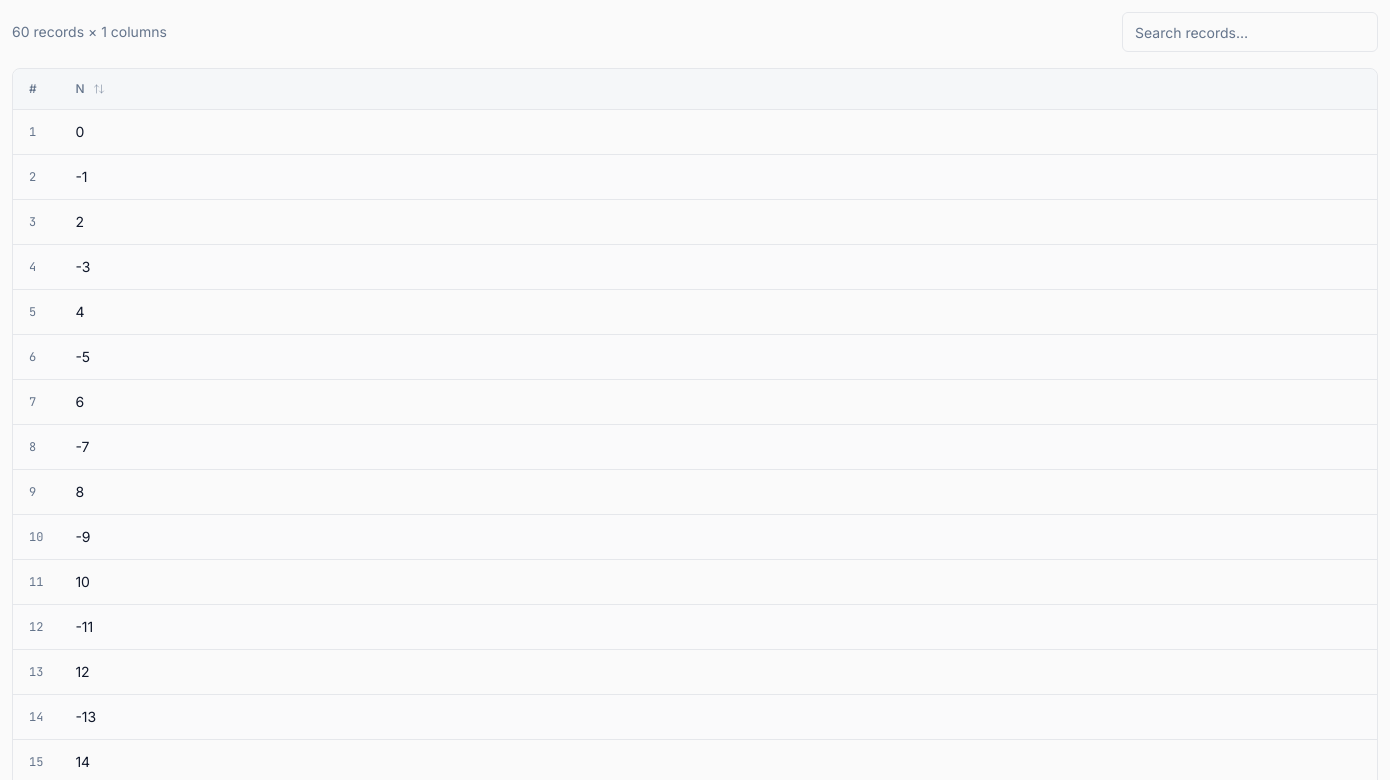
it: DatasetTable › sorts negatives and decimals numerically using the column type
The width and height of the screenshot is (1390, 780).
Click the button "n".
click(90, 89)  # box [75,81,105,97]
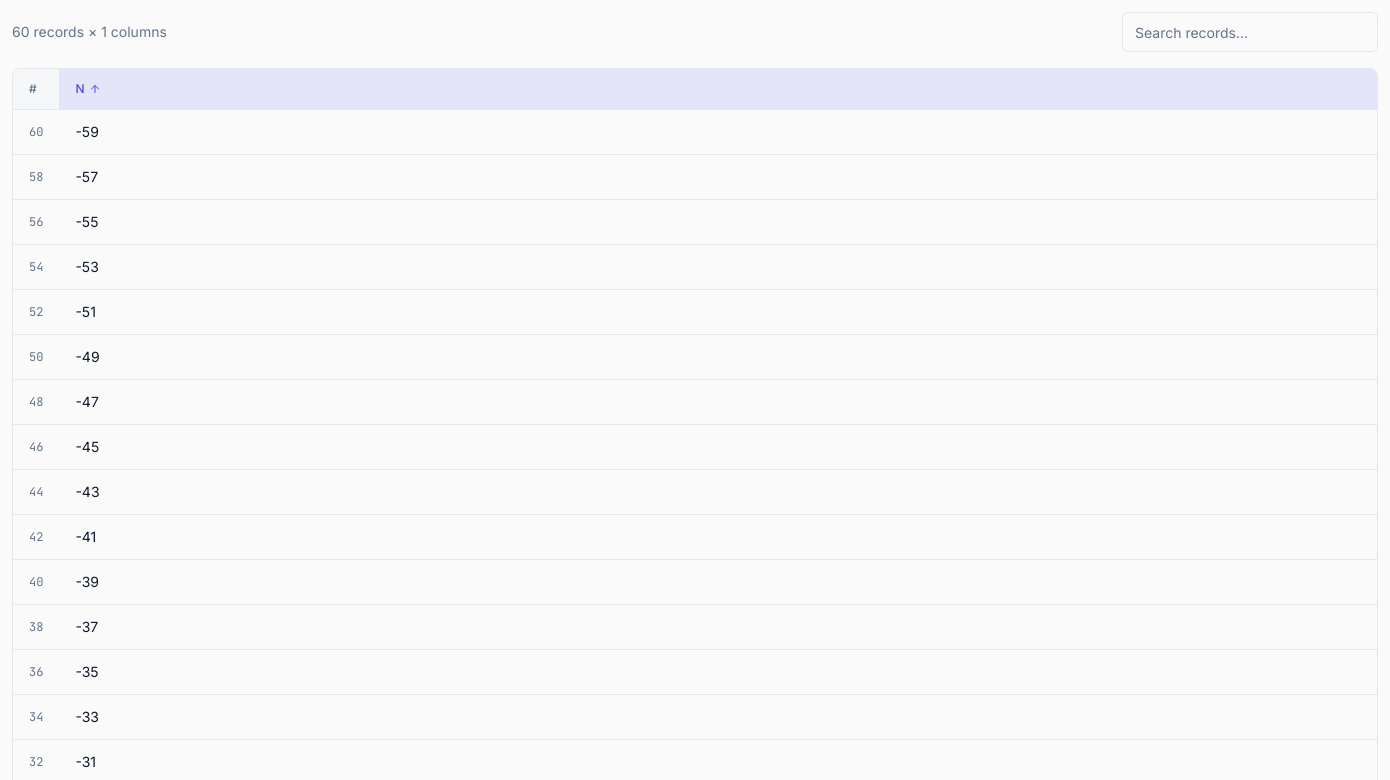
expect the cell "-59" is shown: met, box [59,110,1377,154]
